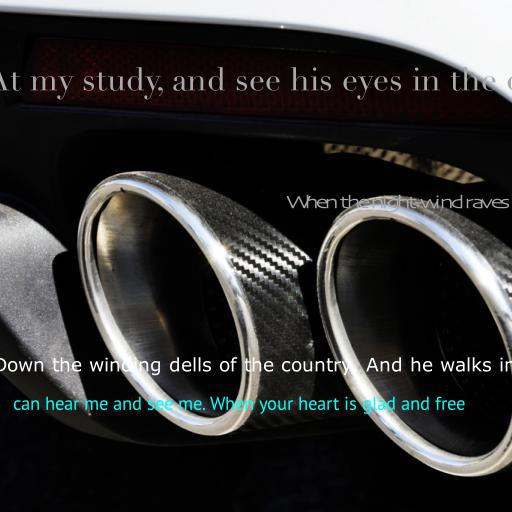Didot: (0, 66, 512, 100)
PT Sans: (13, 396, 465, 414)
Skia: (285, 194, 507, 213)
Verdana: (0, 357, 512, 376)
